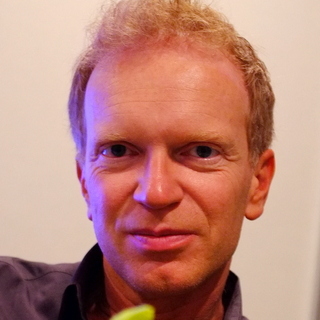eye: (179, 140, 227, 165), (96, 139, 139, 163)
